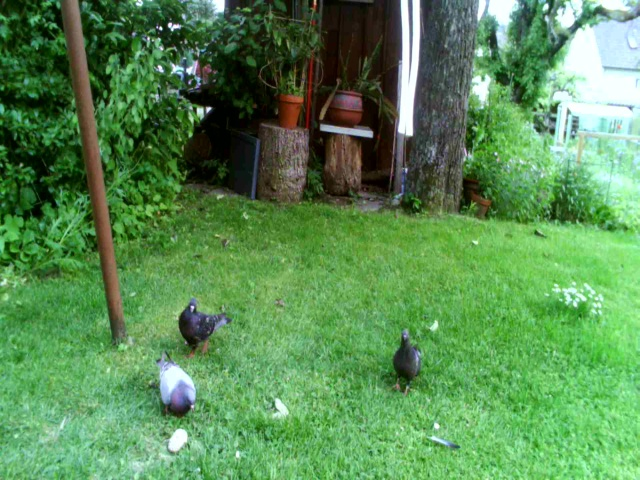Pigeon: (150, 345, 204, 425), (170, 291, 233, 359), (387, 325, 430, 404)
